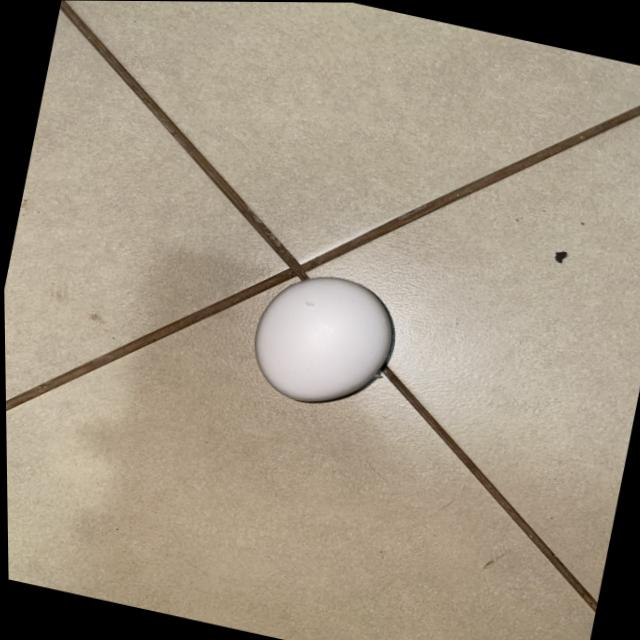egg: (240, 256, 413, 423)
